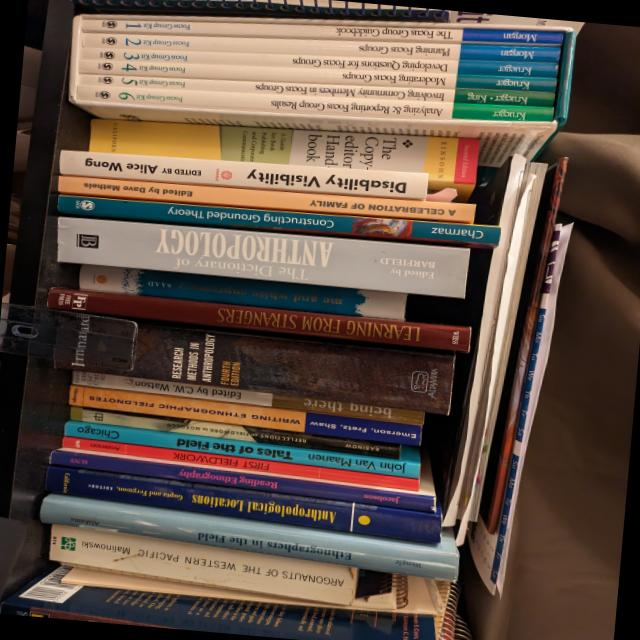book: (53, 312, 454, 414), (86, 104, 477, 203), (35, 491, 461, 581), (53, 212, 469, 297), (48, 423, 439, 512), (42, 464, 442, 543), (45, 285, 470, 352), (45, 522, 358, 607), (57, 194, 499, 249), (67, 382, 421, 447), (62, 416, 420, 478), (56, 174, 474, 224), (60, 434, 419, 492), (76, 83, 551, 125), (70, 370, 423, 425), (57, 149, 427, 200), (81, 27, 558, 66), (77, 264, 405, 320), (69, 404, 400, 459), (76, 57, 555, 94), (79, 70, 554, 107), (79, 46, 557, 78), (80, 17, 561, 47)
